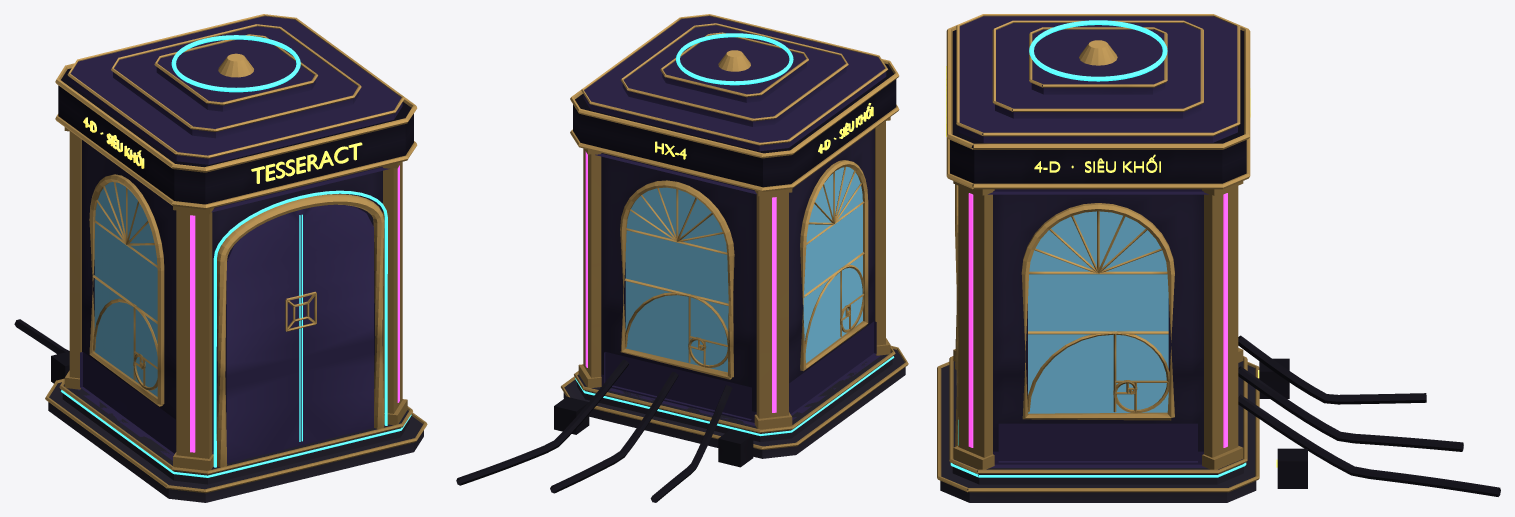
File: kiosk.glb
3 views of the same model, side by side, from view 1: azimuth 30°, elevation 25°; view 2: azimuth 150°, elevation 25°; view 3: azimuth 270°, elevation 25° (orthographic). The views are drawn at different scales.
Visible parts, largest first — view 1: k_roof, k_door_L, k_door_R, k_pillars, k_cornice, k_plinth, k_glass, k_body, k_door_frame, k_roof_brass, k_window_frames, k_cornice_brass (+11 smaller); view 2: k_glass, k_roof, k_body, k_pillars, k_window_frames, k_cornice, k_plinth, k_panels, k_cables, k_roof_brass, k_cornice_brass, k_plinth_brass (+5 smaller); view 3: k_roof, k_glass, k_body, k_pillars, k_cornice, k_plinth, k_cables, k_window_frames, k_panels, k_roof_brass, k_cornice_brass, k_plinth_brass (+7 smaller).
Part boxes in pixels (box(x1,y1,x2,y2)): k_roof: box(69, 16, 402, 164); k_door_L: box(225, 210, 300, 463); k_door_R: box(300, 204, 373, 445); k_pillars: box(64, 127, 407, 470); k_cornice: box(58, 68, 413, 204); k_plinth: box(48, 382, 423, 502); k_glass: box(94, 182, 157, 396); k_body: box(82, 140, 382, 451); k_door_frame: box(216, 194, 384, 467); k_roof_brass: box(67, 14, 404, 158); k_window_frames: box(89, 174, 164, 406); k_cornice_brass: box(55, 63, 417, 209); k_glass: box(625, 166, 862, 372); k_roof: box(583, 16, 886, 151); k_body: box(601, 128, 874, 411); k_pillars: box(578, 117, 890, 429); k_window_frames: box(620, 160, 868, 379); k_cornice: box(573, 63, 896, 187); k_plinth: box(563, 349, 905, 458); k_panels: box(604, 321, 876, 420); k_cables: box(456, 359, 753, 502); k_roof_brass: box(581, 14, 887, 145); k_cornice_brass: box(570, 59, 899, 191); k_plinth_brass: box(561, 345, 908, 449); k_roof: box(958, 16, 1237, 142); k_glass: box(1028, 211, 1168, 413); k_body: box(993, 194, 1203, 451); k_pillars: box(953, 181, 1243, 469); k_cornice: box(950, 30, 1246, 185); k_plinth: box(940, 361, 1256, 502); k_cables: box(1238, 335, 1500, 496); k_window_frames: box(1021, 203, 1174, 420); k_panels: box(998, 423, 1197, 462); k_roof_brass: box(956, 14, 1240, 136); k_cornice_brass: box(946, 25, 1250, 189); k_plinth_brass: box(937, 356, 1259, 492).
Size of the model in its own units: 2.66 by 3.56 by 4.64.
